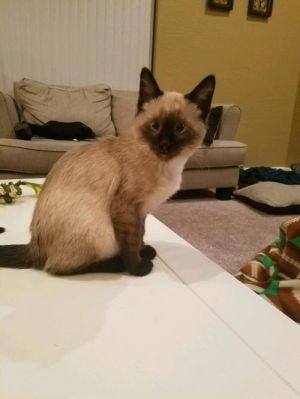siamese: (127, 62, 222, 171)
